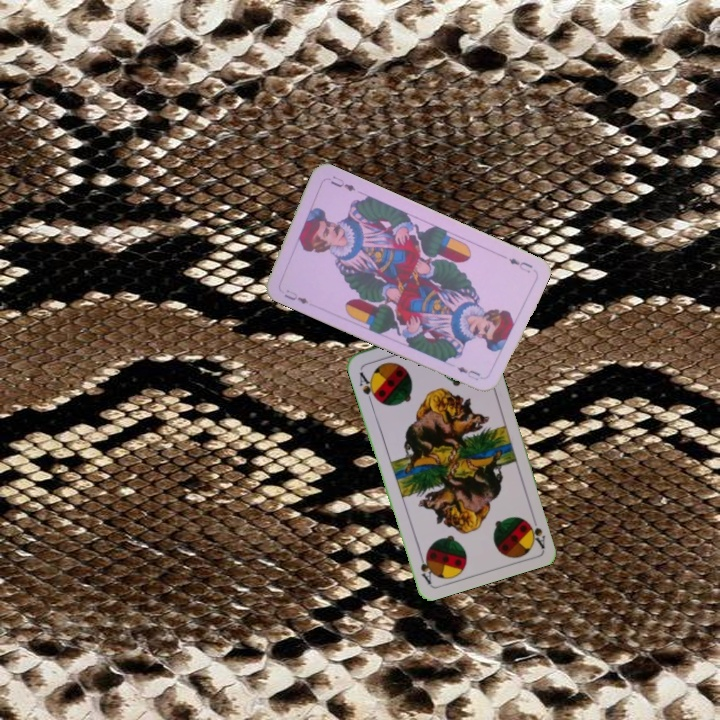EU: (280, 285, 311, 307), (504, 254, 535, 275)
SA: (523, 510, 548, 550), (355, 368, 380, 406)
